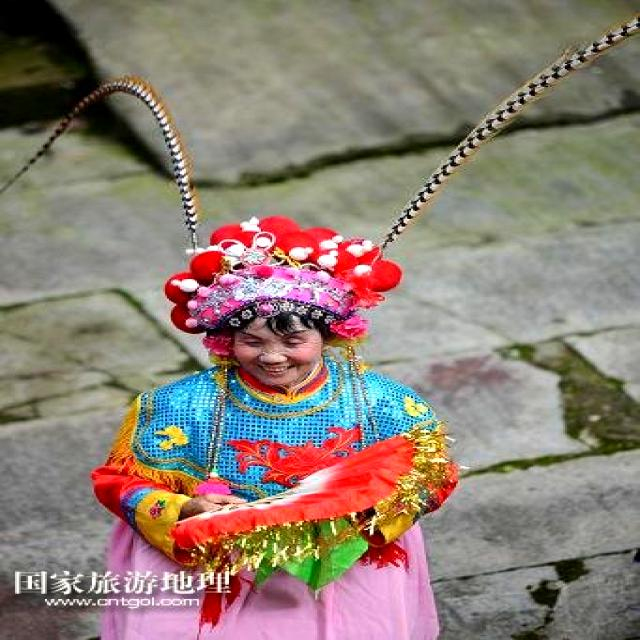Reeves-s Pheasant: (379, 14, 638, 251), (0, 78, 193, 252)
